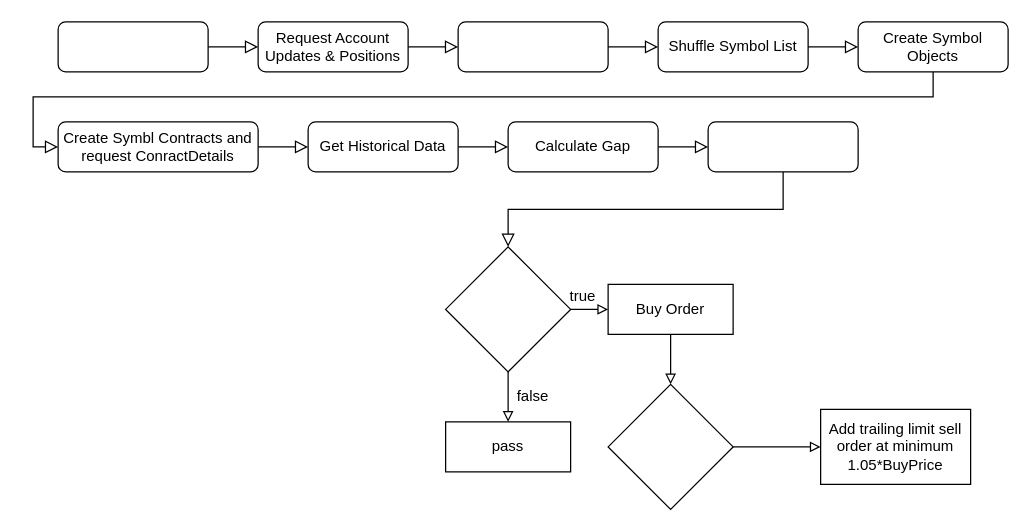
Some shapes in this 1030 by 531 pixel diagram are drawn without their labels. The centre of each missing label's shape, as x and y in pixels:
Connect To Api: point 132,46
if MacdHist > 0: point 507,309
if Order is Executed: point 670,446
Start Market Scanner: point 532,46
Wait for next datapoint to calculate MacdHist: point 782,146
